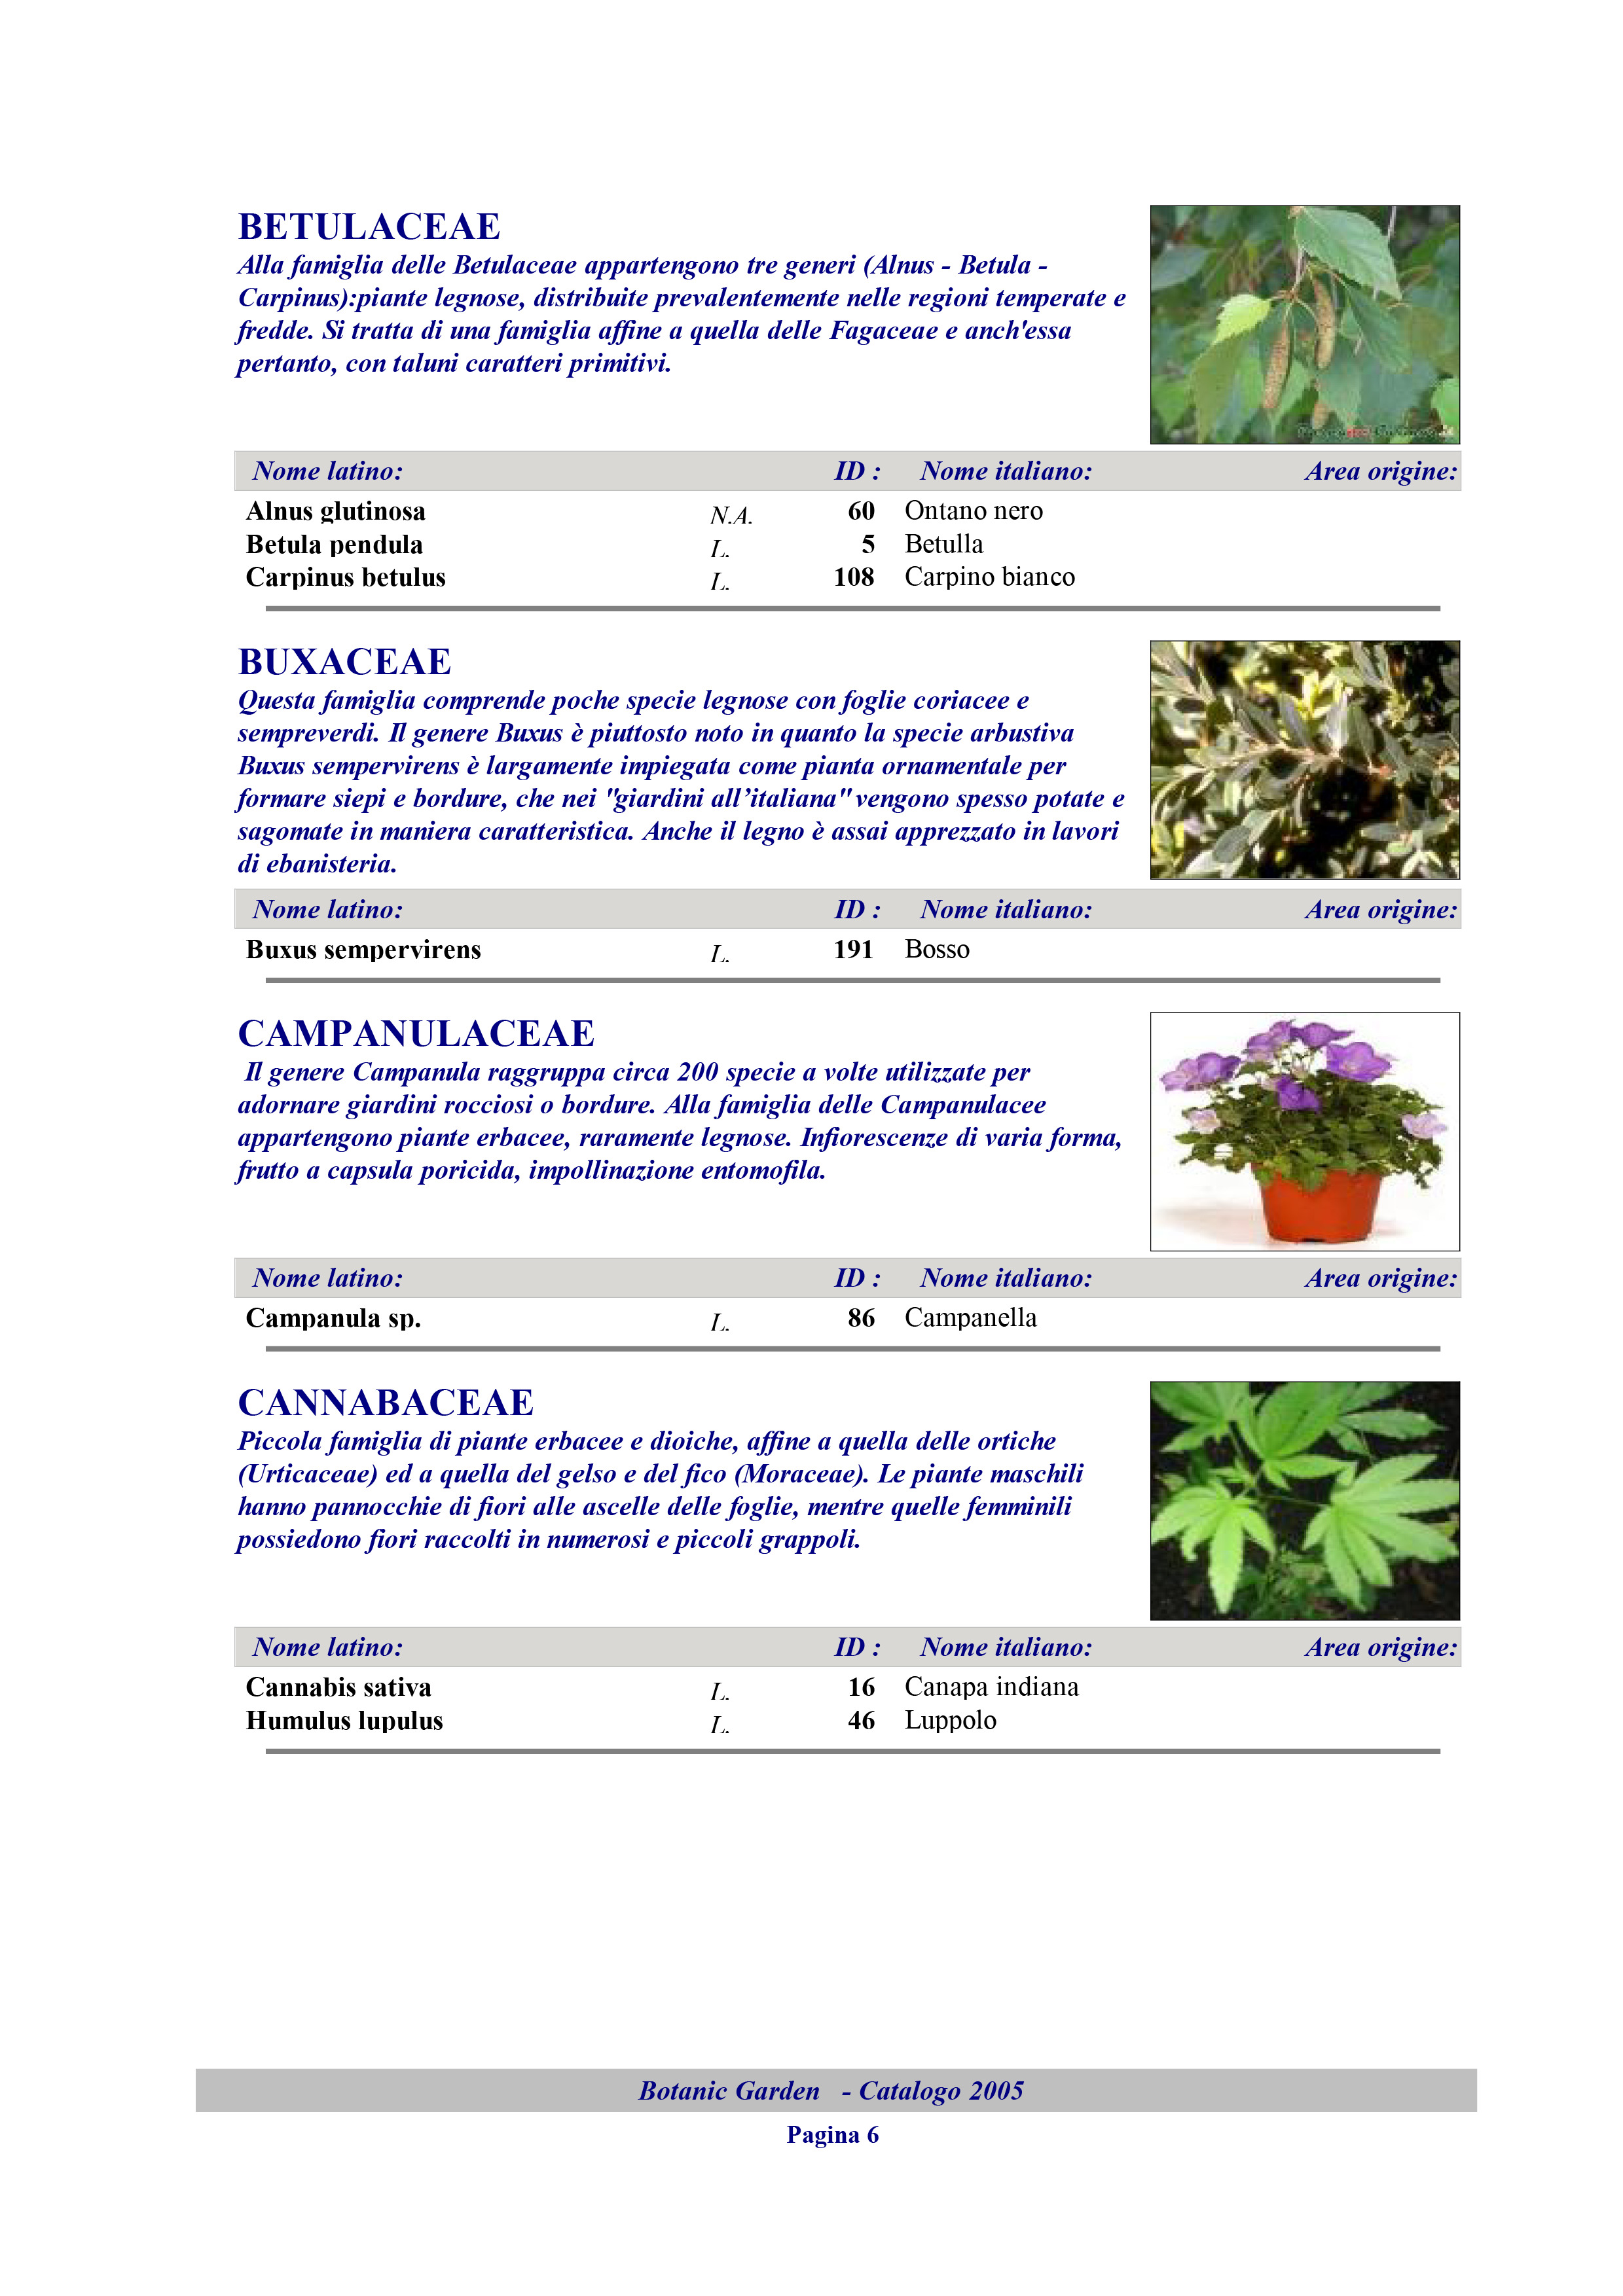figure: (1147, 198, 1463, 442), (1147, 1385, 1460, 1618), (1147, 644, 1453, 876), (1173, 1004, 1451, 1241)
section: (232, 1004, 587, 1051), (232, 198, 527, 246), (239, 1380, 546, 1424), (237, 637, 443, 678)
table: (223, 448, 1467, 620), (239, 1632, 1451, 1761), (228, 886, 1447, 981), (239, 1262, 1453, 1345)
text: (237, 692, 1119, 883), (239, 1058, 1126, 1187), (232, 256, 1117, 377), (246, 1432, 1075, 1557), (638, 2070, 1035, 2110), (782, 2127, 891, 2154)
